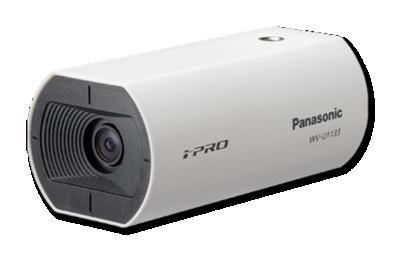tutu: (24, 26, 371, 230)
